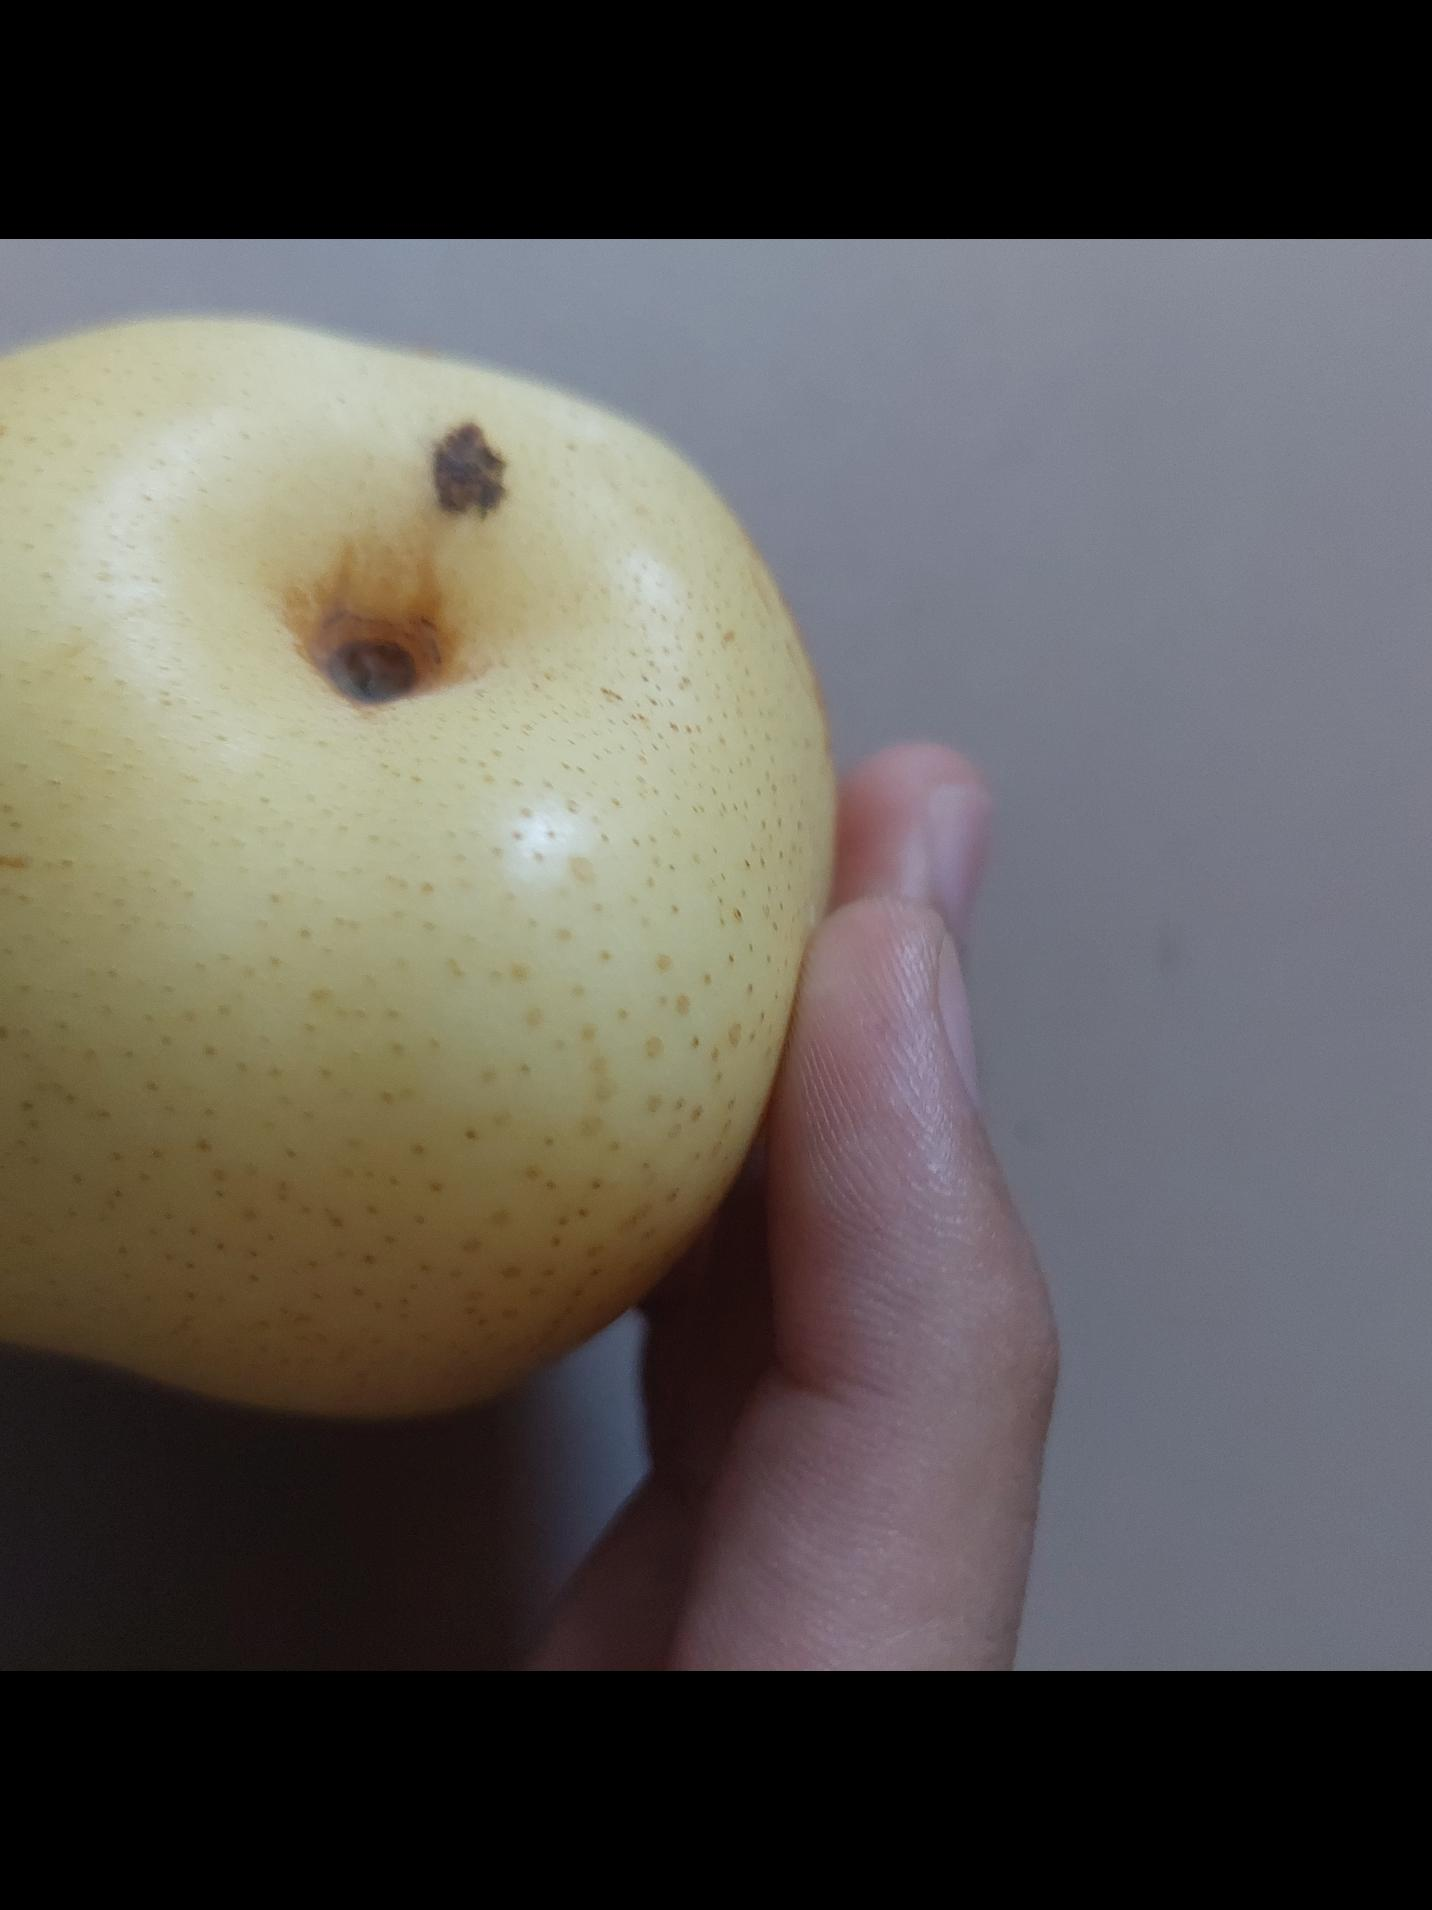Good Pear: (0, 287, 807, 1427)
